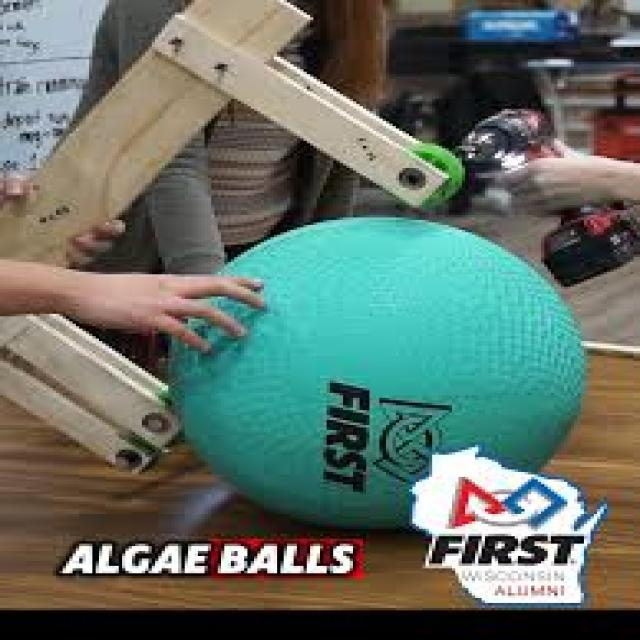algae: (178, 215, 587, 534)
